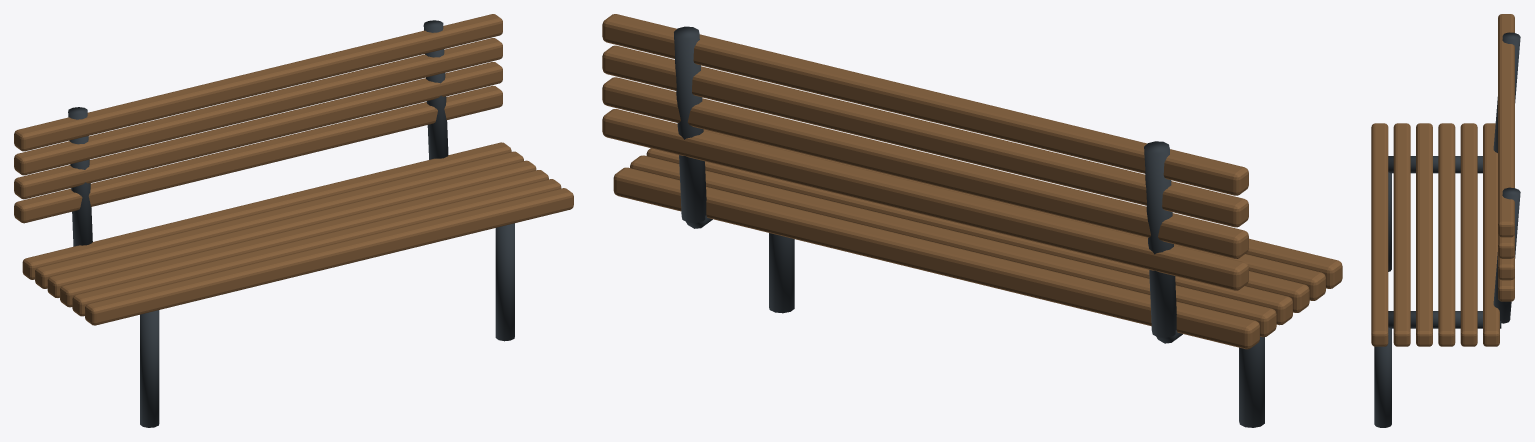
Rendered from SM_Bench.fbx.
3 views of the same model, side by side, from view 1: azimuth 30°, elevation 25°; view 2: azimuth 150°, elevation 25°; view 3: azimuth 270°, elevation 25° (orthographic). The views are drawn at different scales.
Parts seen in each view (by area): view 1: SM_Bench; view 2: SM_Bench; view 3: SM_Bench.
Part boxes in pixels (bbox=[...]): SM_Bench: bbox=[14, 14, 573, 427]; SM_Bench: bbox=[602, 14, 1342, 427]; SM_Bench: bbox=[1371, 14, 1520, 427].
Bounding box in the file's own units: 190 × 56.89 × 98.25.
